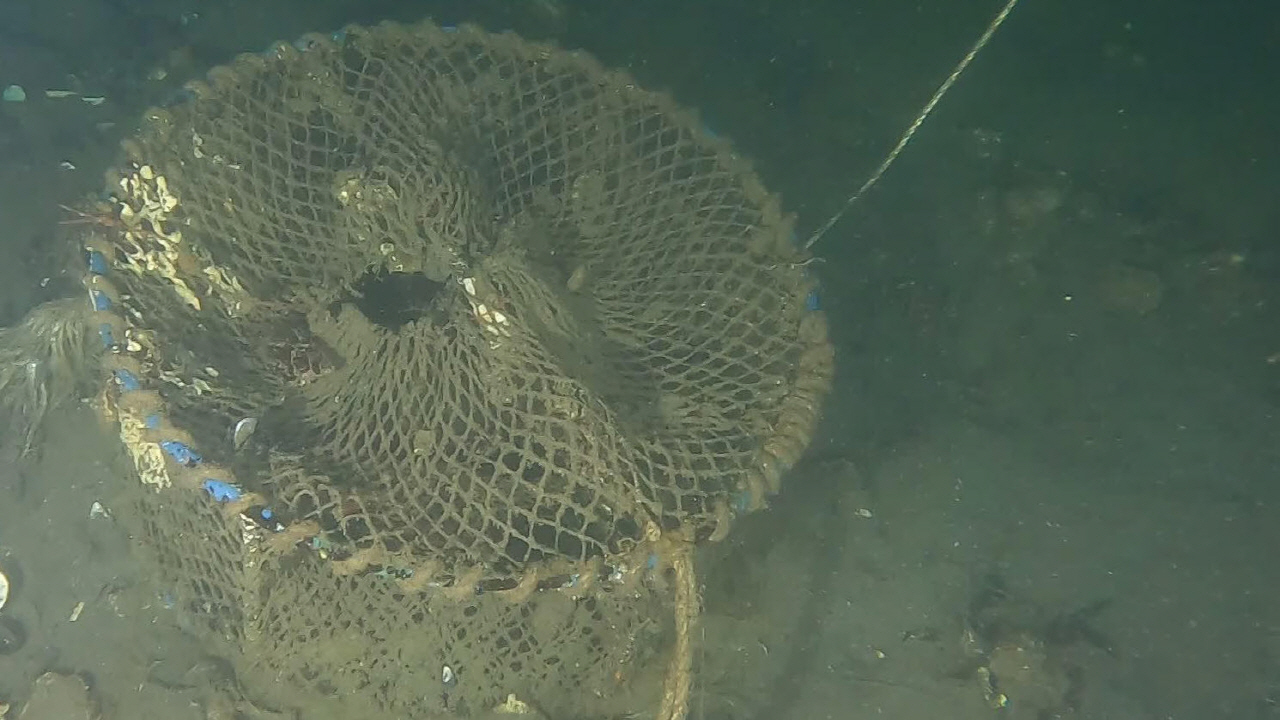bundle of ropes: (657, 547, 700, 720)
circular fish trap: (78, 15, 837, 719)
